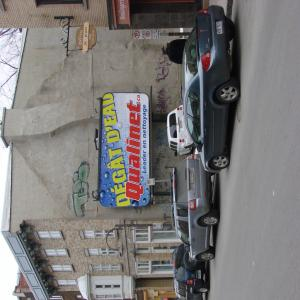Vehicle-registration-plate: (217, 21, 223, 35), (190, 174, 195, 185), (198, 270, 202, 280)
